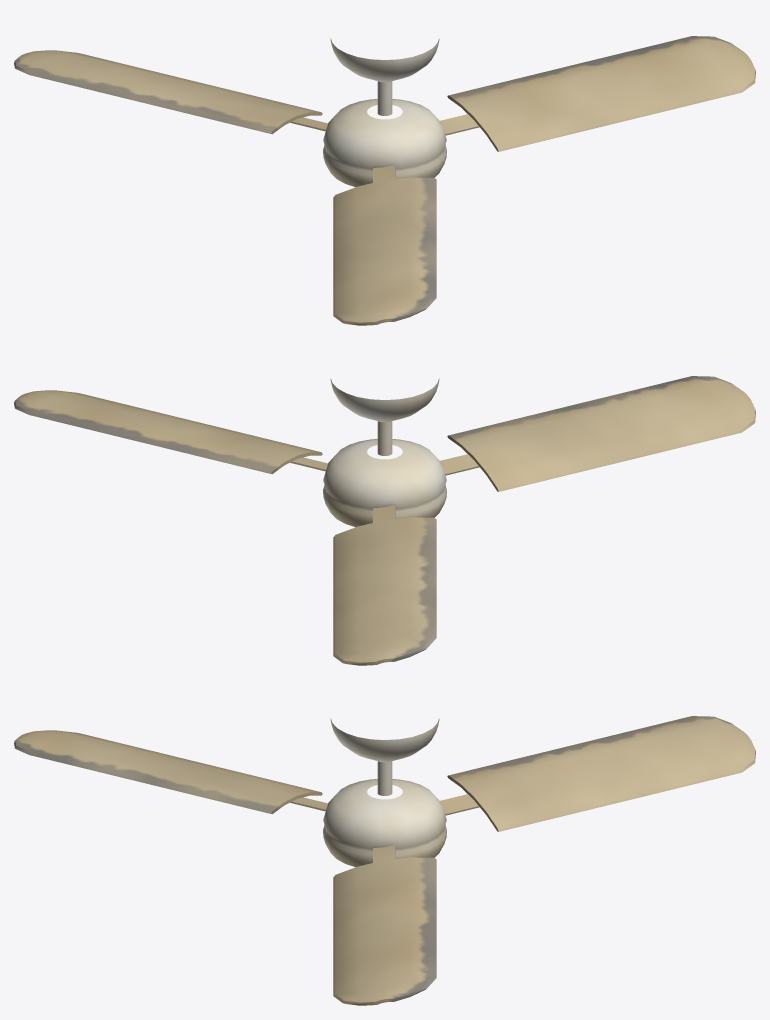
The model's file is ceiling_fan.glb.
3 views of the same model, one above another, from view 1: azimuth 30°, elevation 25°; view 2: azimuth 150°, elevation 25°; view 3: azimuth 270°, elevation 25° (orthographic).
Visible parts, largest first — view 1: Blades, CeilingFan; view 2: Blades, CeilingFan; view 3: Blades, CeilingFan.
Part boxes in pixels (left/top/right/bottom): Blades: left=14, top=36, right=755, bottom=325; CeilingFan: left=330, top=38, right=439, bottom=115; Blades: left=14, top=376, right=755, bottom=665; CeilingFan: left=330, top=378, right=439, bottom=455; Blades: left=14, top=716, right=755, bottom=1005; CeilingFan: left=330, top=718, right=439, bottom=795.
Size of the model in its own units: 1.1 by 0.2525 by 1.24.
1 material, 1 textured.
